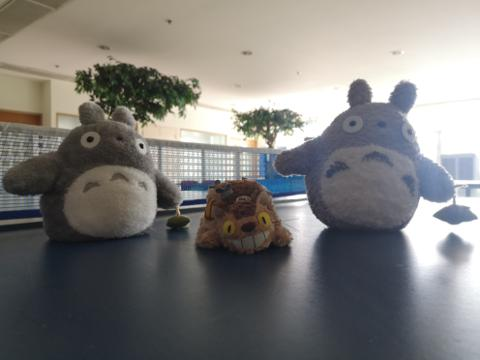nekobus: (192, 175, 297, 254)
totoro: (271, 77, 479, 240), (2, 100, 191, 245)
